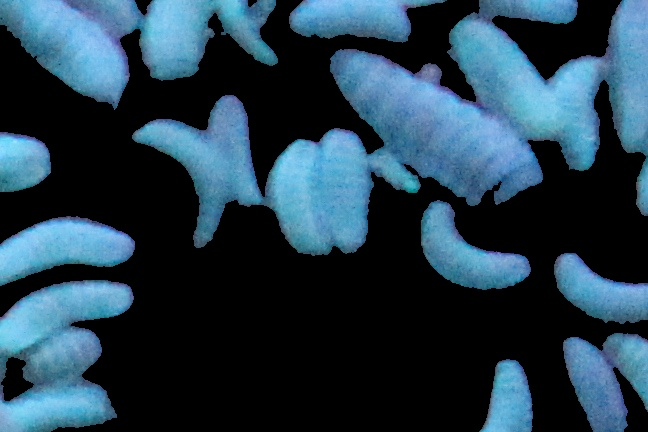larvae: (333, 46, 546, 206), (448, 12, 564, 137), (1, 1, 134, 106), (132, 119, 224, 250), (416, 199, 539, 290), (1, 274, 130, 349), (1, 217, 134, 283), (553, 247, 648, 326), (321, 133, 382, 256), (207, 94, 271, 209), (559, 336, 632, 432), (270, 134, 320, 261), (553, 53, 603, 176), (609, 1, 648, 154), (1, 382, 118, 432), (289, 1, 412, 42), (141, 1, 205, 78), (23, 326, 102, 381), (603, 331, 648, 427), (476, 360, 535, 432), (214, 1, 277, 63), (1, 130, 49, 194), (479, 1, 580, 23)
